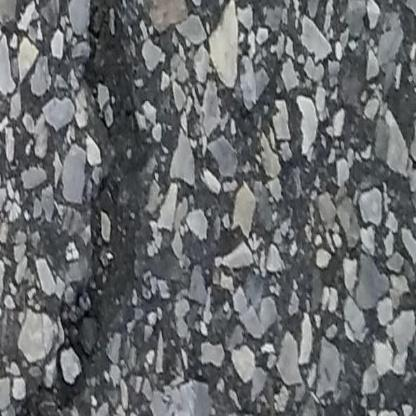Cracks: (20, 0, 156, 416)
